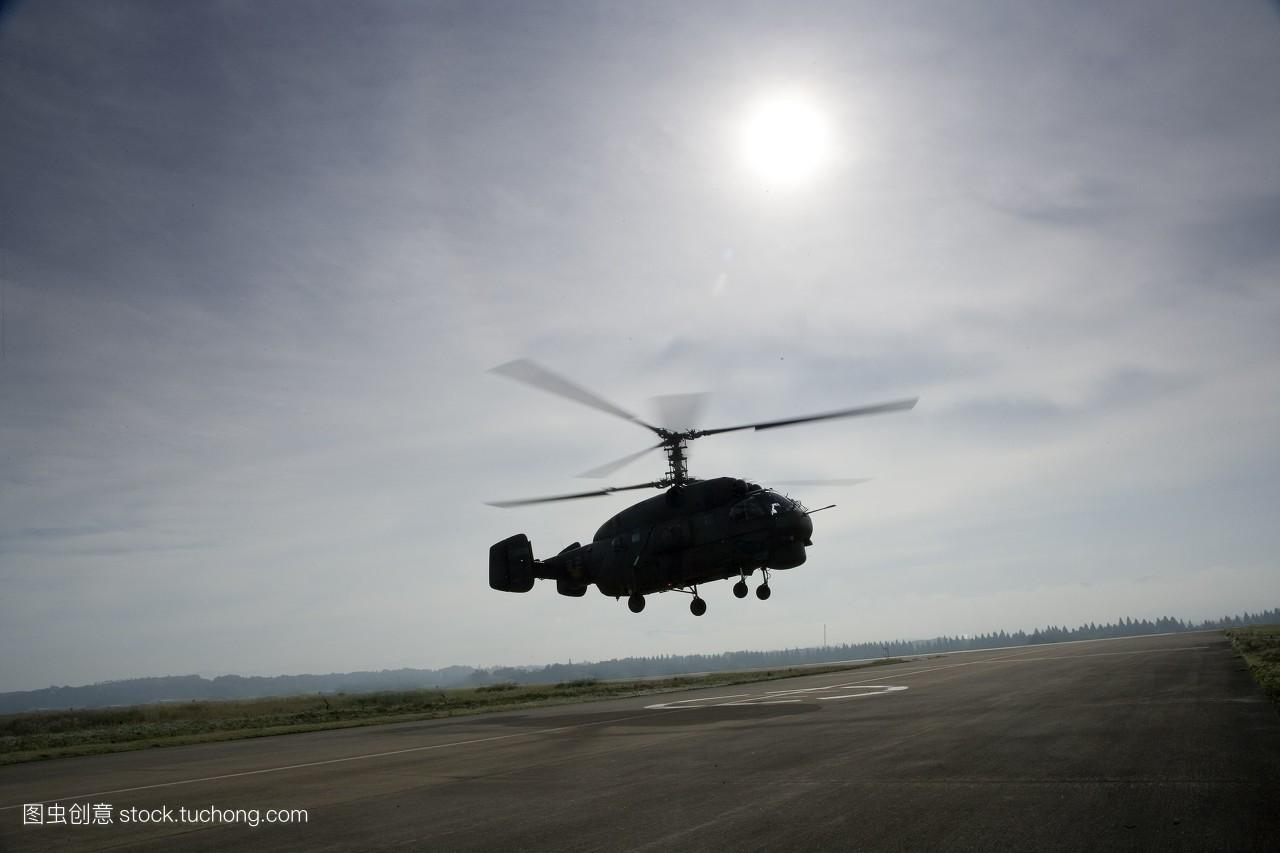airplane: (465, 352, 943, 607)
